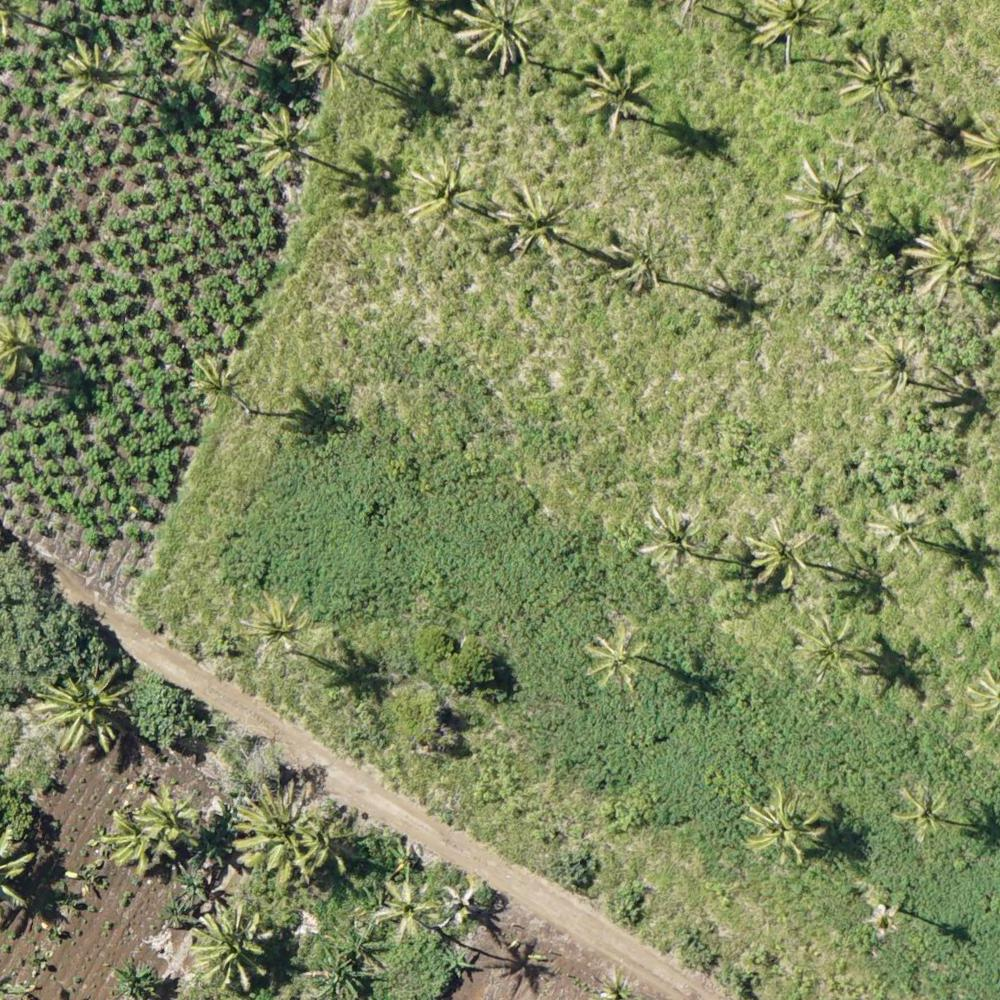Palm: (786, 154, 881, 249), (907, 213, 1000, 309), (232, 790, 316, 878), (38, 665, 123, 750), (737, 785, 828, 863), (450, 1, 542, 72), (188, 908, 266, 989), (502, 182, 579, 263), (583, 59, 663, 136), (792, 614, 871, 691), (405, 154, 480, 235), (741, 513, 816, 593), (289, 15, 365, 91), (57, 38, 132, 114), (861, 328, 930, 408), (840, 41, 914, 114), (581, 621, 655, 689), (173, 13, 242, 83), (643, 505, 705, 580), (252, 108, 316, 180), (611, 228, 676, 293), (867, 497, 933, 561), (245, 591, 304, 661), (372, 882, 438, 941), (188, 354, 256, 408), (890, 779, 949, 841), (135, 786, 197, 845)
